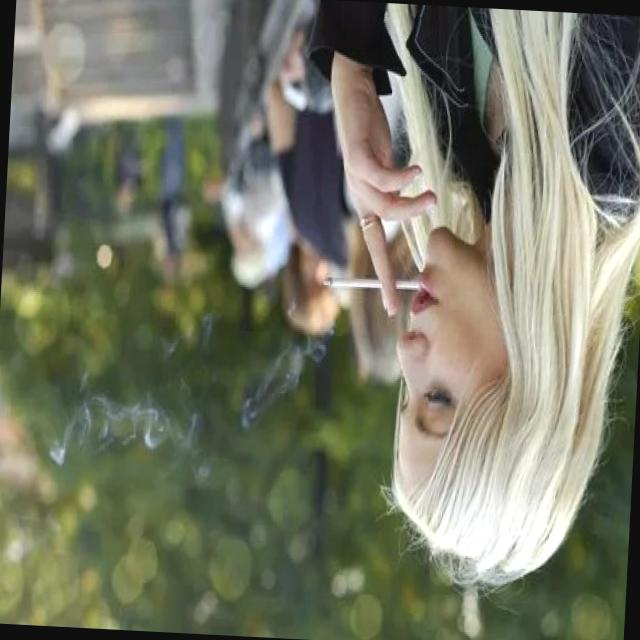smoke: (321, 269, 424, 294)
